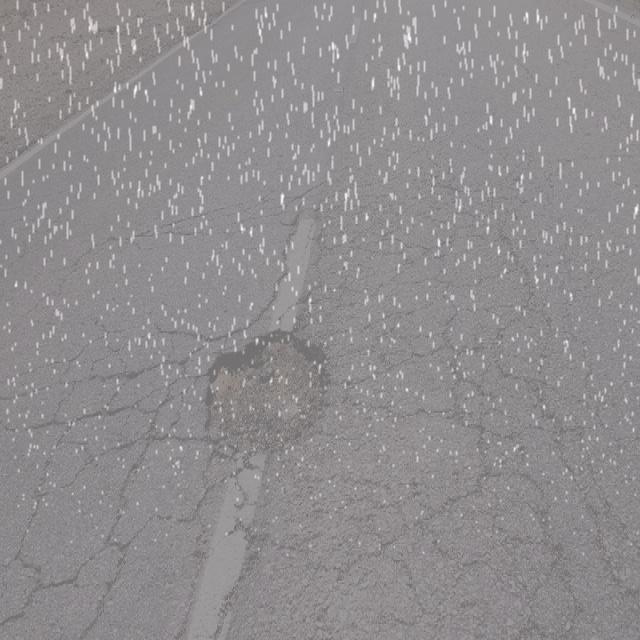Pothole: (173, 314, 344, 468)
